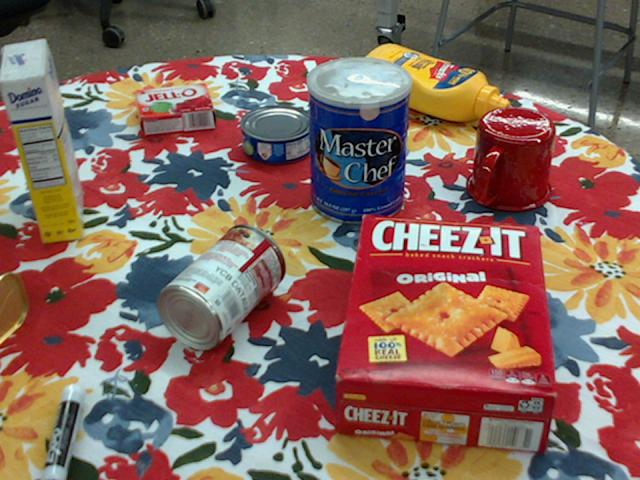cracker_box: (333, 217, 557, 453)
gelatin_box: (135, 85, 214, 138)
large_marker: (37, 383, 84, 479)
master_chef_can: (309, 57, 414, 226)
mug: (466, 107, 557, 213)
mustard_bottle: (357, 43, 510, 121)
potted_meat_can: (0, 270, 27, 341)
sugar_box: (0, 37, 84, 242)
tomato_soup_can: (156, 224, 285, 351)
tuna_fish_can: (240, 105, 315, 164)
